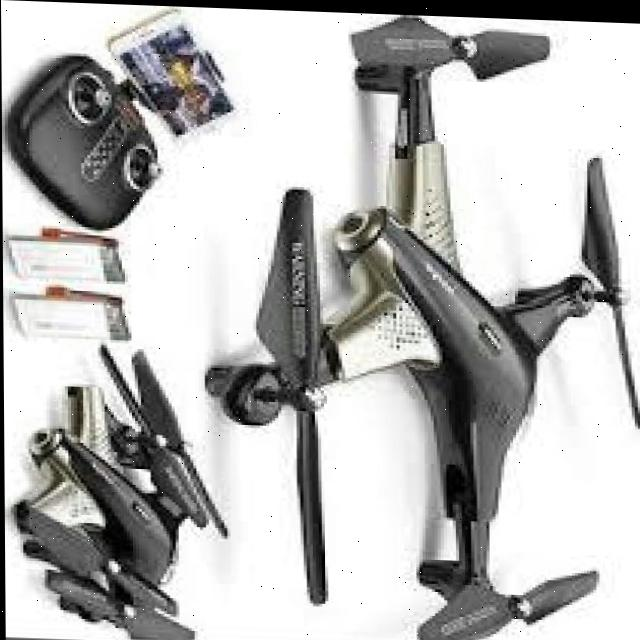drone: (198, 6, 640, 640)
